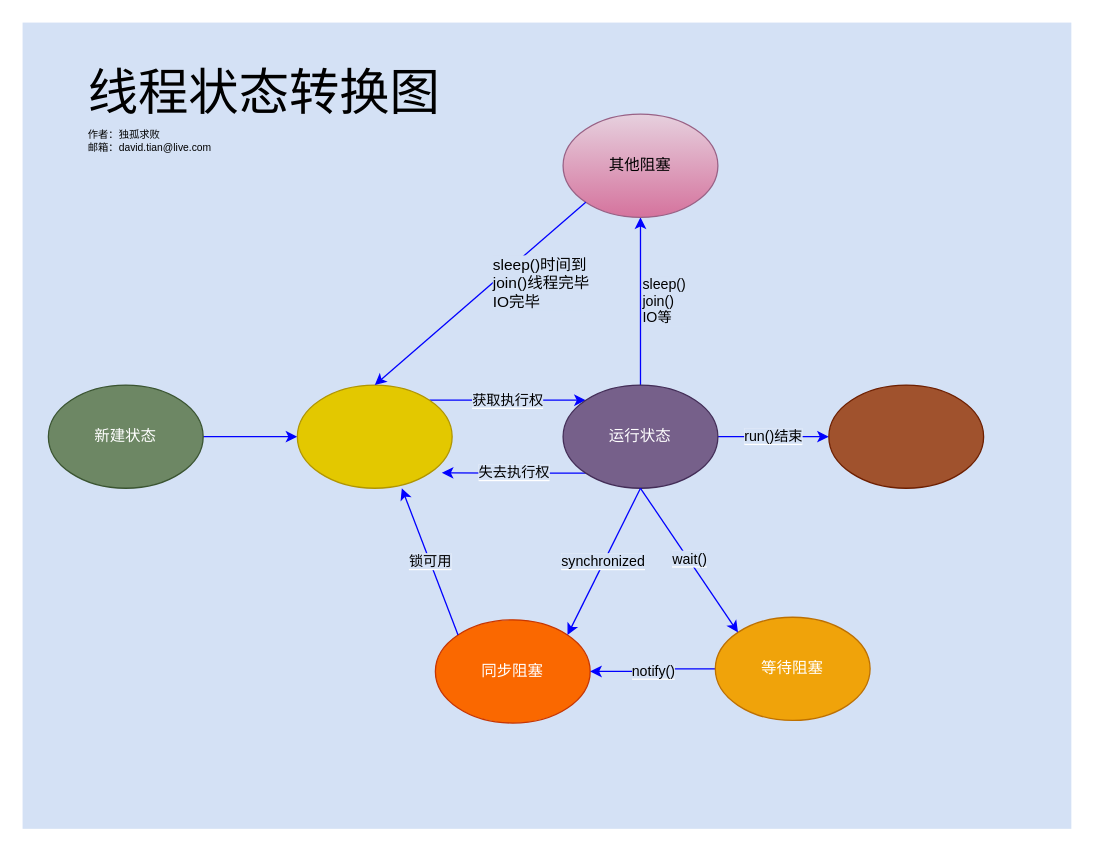
Some shapes in this 1093 by 850 pixel diagram are drawn without their labels. Each missing label, with the centre of its shape:
就绪状态: the point at 374,436
死亡状态: the point at 906,436
